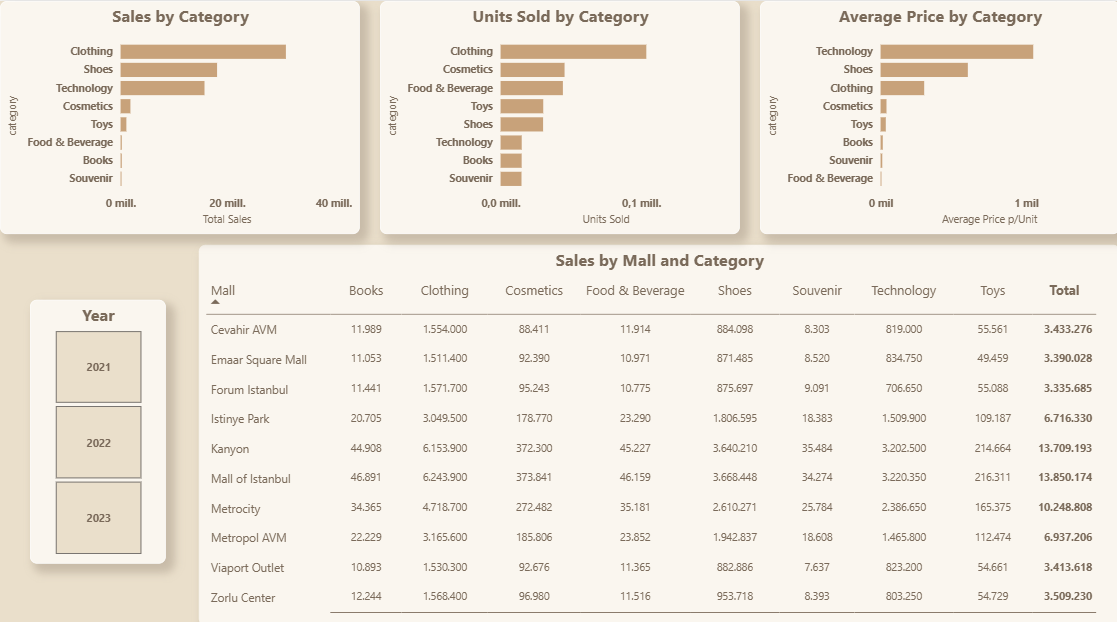

What the dashboard file says about the page in this screenshot:
{"tool":"powerbi","page":{"name":"PRODUCTS & MALLS","canvas":[1280,720],"ordinal":1},"visuals":[{"type":"pivotTable","title":"Sales by Mall and Category","fields":{"Columns":["customer_shopping_clean.category"],"Rows":["customer_shopping_clean.shopping_mall"],"Values":["Medidas.Total Sales"]},"box":[227.5,278.8,1052.5,435],"z":0},{"type":"slicer","title":"Year","fields":{"Values":["Calendar.Año"]},"box":[33.8,341.2,155,301.2],"z":1000},{"type":"clusteredBarChart","title":"Sales by Category","fields":{"Category":["customer_shopping_clean.category"],"Y":["Medidas.Total Sales"]},"box":[0,0,411.2,266.2],"z":2000},{"type":"clusteredBarChart","title":"Units Sold by Category","fields":{"Category":["customer_shopping_clean.category"],"Y":["Medidas.Units Sold"]},"box":[433.8,0,411.2,266.2],"z":3000},{"type":"clusteredBarChart","title":"Average Price by Category","fields":{"Category":["customer_shopping_clean.category"],"Y":["Medidas.Average Price p/Unit"]},"box":[868.8,0,411.2,266.2],"z":4000}]}

Visuals, with their boxes in screenshot pixels (x1, y1, x2, y2), scaled from the page's 1280x720 canvas onto the 1117x622 screenshot:
"Sales by Mall and Category" pivotTable: left=199, top=241, right=1116, bottom=617
"Year" slicer: left=29, top=295, right=165, bottom=555
"Sales by Category" clusteredBarChart: left=0, top=0, right=359, bottom=230
"Units Sold by Category" clusteredBarChart: left=379, top=0, right=737, bottom=230
"Average Price by Category" clusteredBarChart: left=758, top=0, right=1116, bottom=230
